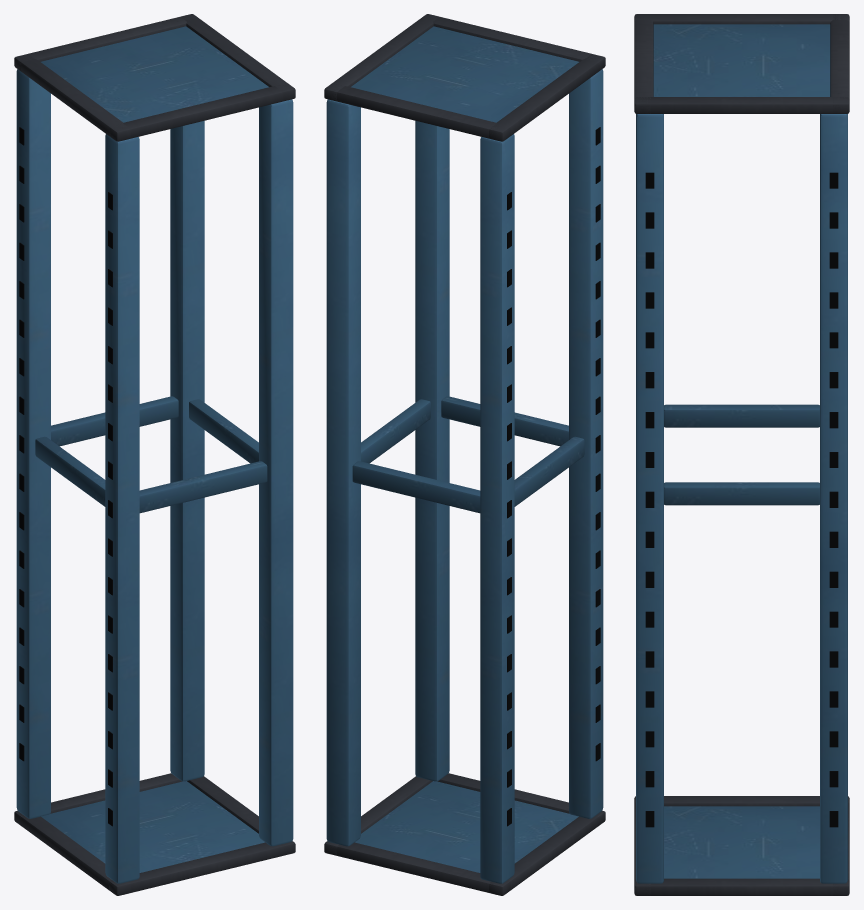
Rendered from shelf_support_tall.glb.
3 renders of one model, left to right at view 1: azimuth 30°, elevation 25°; view 2: azimuth 150°, elevation 25°; view 3: azimuth 270°, elevation 25°, orthographic. The views are drawn at different scales.
Visible parts, largest first — view 1: ShelfSupportTallBody; view 2: ShelfSupportTallBody; view 3: ShelfSupportTallBody.
Boxes of the visible parts, x1,y1,x2,y2 form: ShelfSupportTallBody: (14, 14, 295, 895); ShelfSupportTallBody: (324, 14, 605, 895); ShelfSupportTallBody: (634, 14, 849, 895).
Size of the model in its own units: 0.246 by 1 by 0.246.
4 materials, 3 textured.
